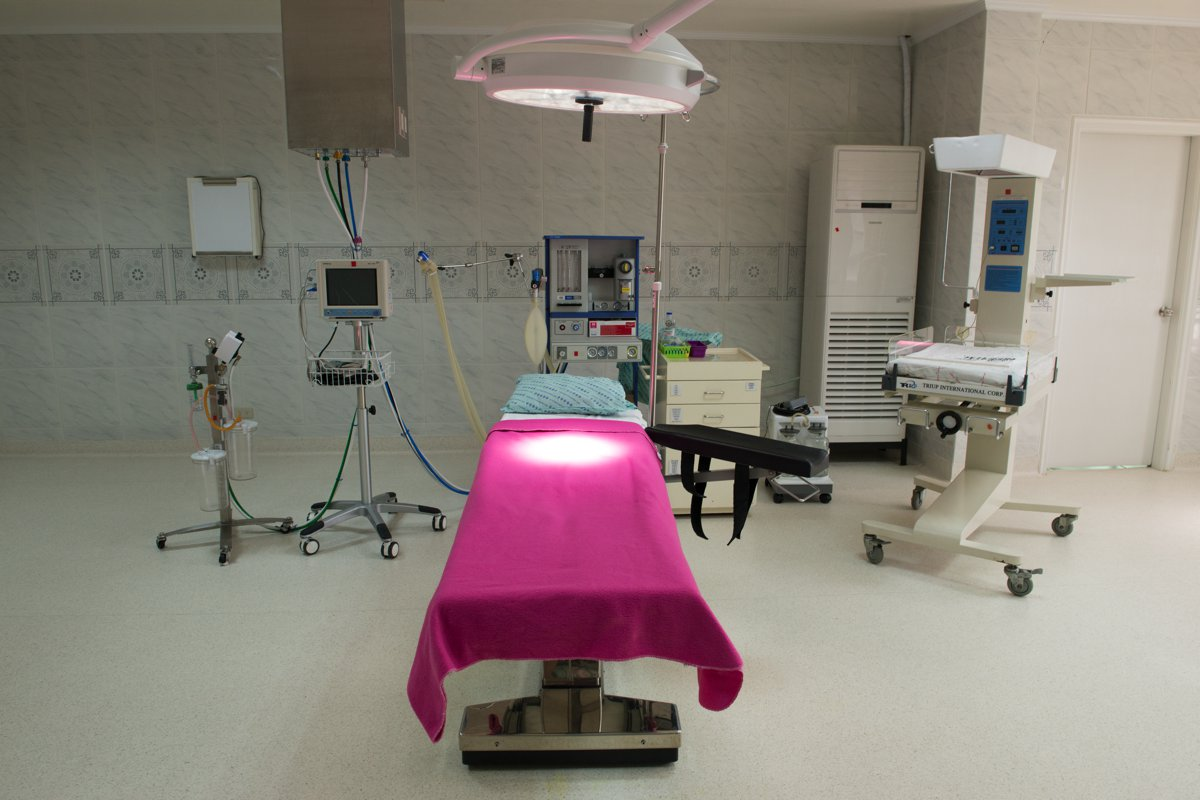hospital bed: (486, 361, 688, 655)
